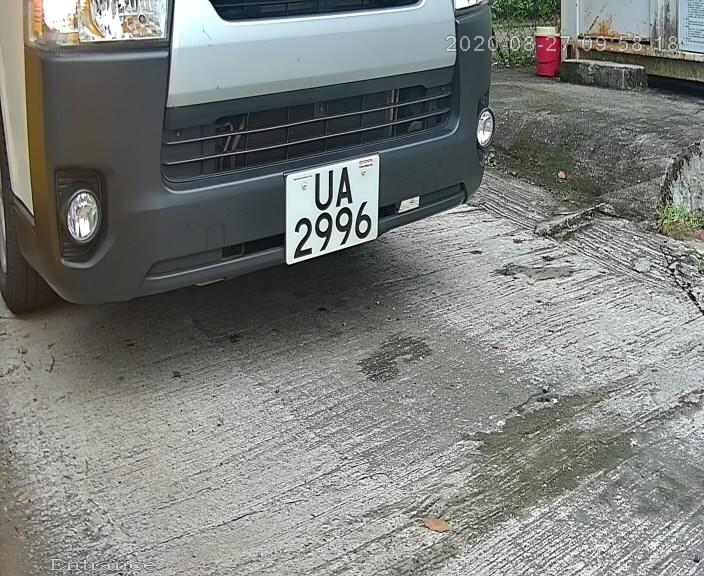License Plate: (283, 152, 387, 268)
